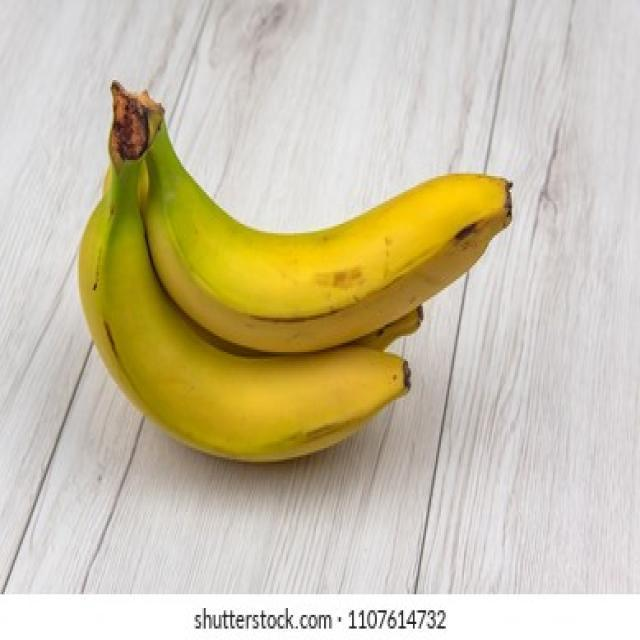Banana: (73, 72, 520, 474)
